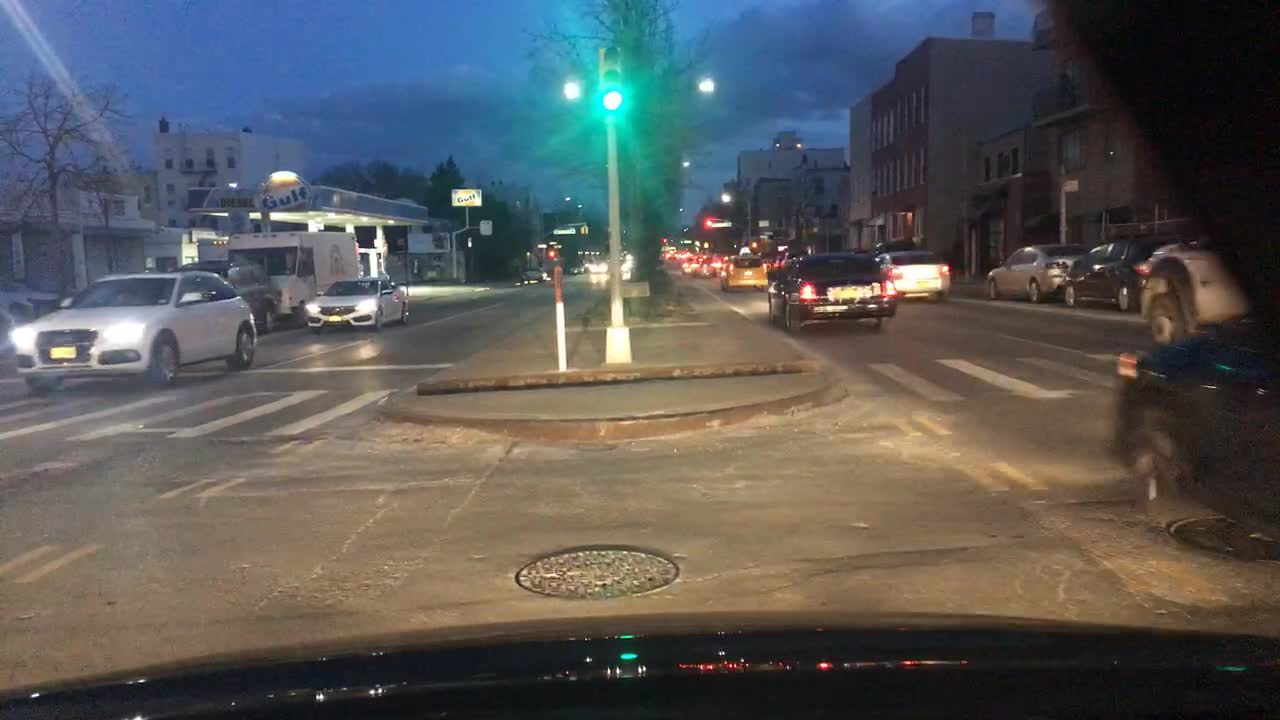car: (1100, 308, 1278, 540), (16, 272, 257, 394), (1136, 233, 1247, 349), (762, 250, 898, 336), (175, 255, 283, 343), (1060, 237, 1180, 311), (985, 240, 1086, 306), (303, 277, 411, 336), (870, 249, 950, 306), (718, 248, 764, 295), (873, 233, 922, 252), (517, 265, 549, 288), (586, 257, 611, 277), (699, 260, 716, 278), (571, 260, 590, 275), (621, 255, 633, 277), (681, 257, 694, 274)
traffic light: (592, 36, 628, 122), (578, 223, 590, 237), (546, 247, 556, 259), (703, 215, 711, 228)
traffic sign: (549, 223, 578, 235), (479, 218, 494, 238), (708, 222, 734, 228), (758, 220, 772, 228)
truck: (228, 228, 359, 325)
